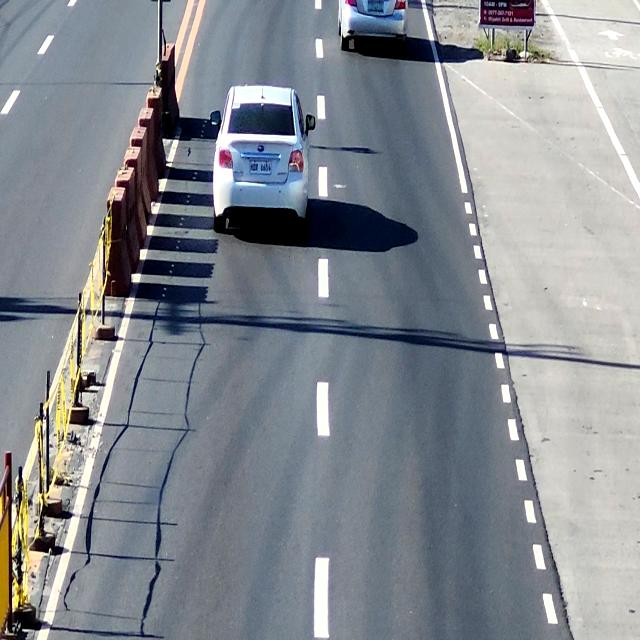Car: (206, 83, 314, 234), (337, 0, 412, 52)
License-Plate: (249, 158, 274, 178)
